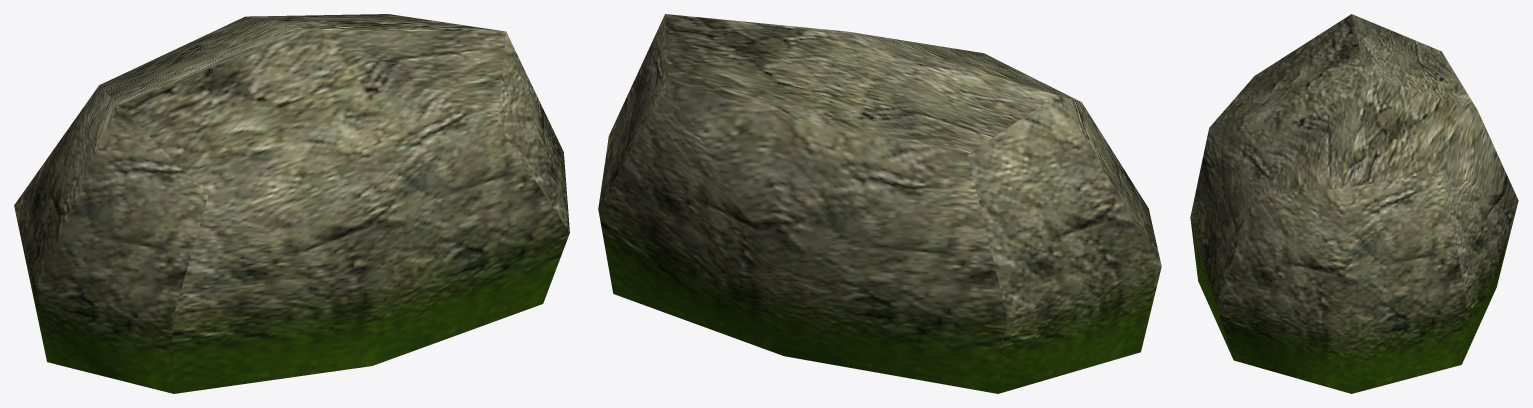
Rendered from nast13.dae.
3 renders of one model, left to right at view 1: azimuth 30°, elevation 25°; view 2: azimuth 150°, elevation 25°; view 3: azimuth 270°, elevation 25°, orthographic. The views are drawn at different scales.
Visible parts, largest first — view 1: stones01; view 2: stones01; view 3: stones01.
Boxes of the visible parts, x1=… form: stones01: x1=14, y1=14, x2=569, y2=393; stones01: x1=598, y1=14, x2=1161, y2=393; stones01: x1=1190, y1=14, x2=1518, y2=393.
Size of the model in its own units: 4.98 by 3.14 by 2.29.
1 material, 1 textured.
